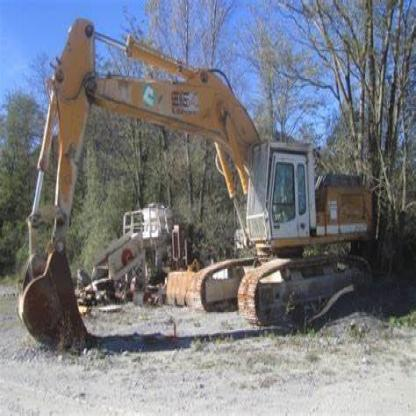excavator: (28, 6, 389, 354)
